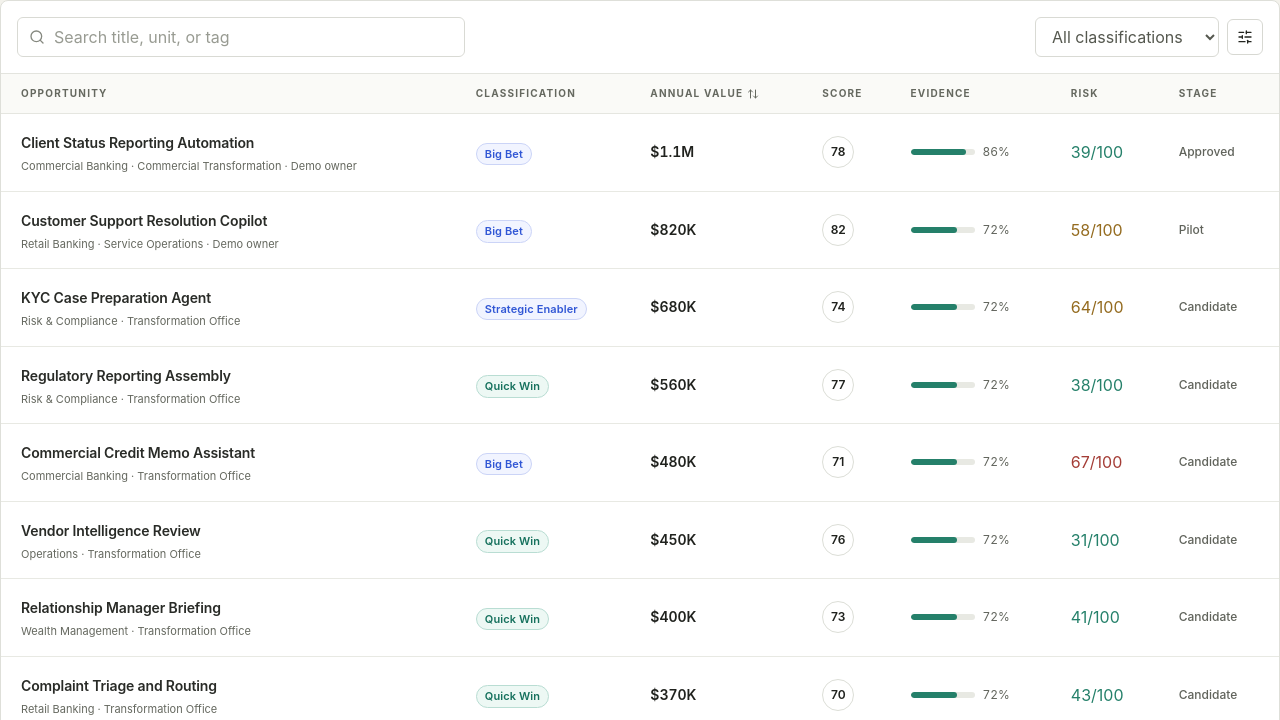
it: OpportunityTable › filters the evidence-backed portfolio by user query
In the search field named "Search opportunities": x=241, y=37 [17,17,465,57], type "regulatory"
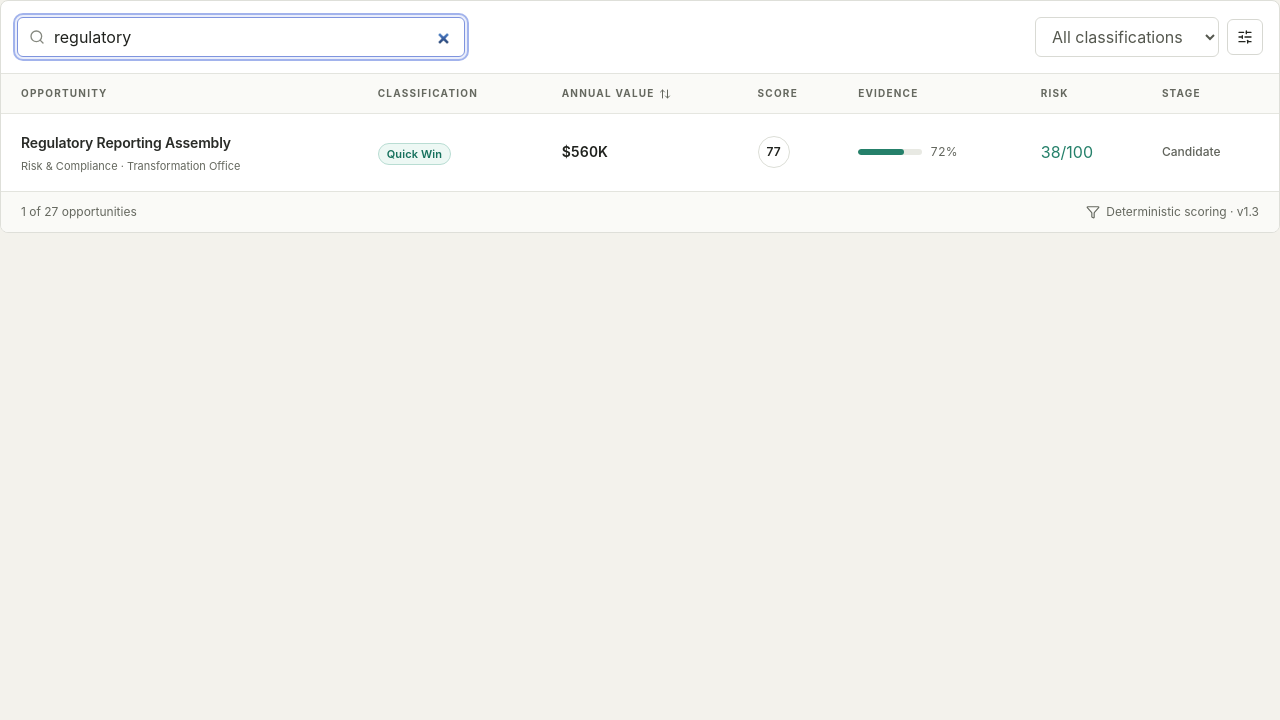
Expected: the link "Regulatory Reporting Assembly" is shown, [21,134,231,151]
Expected: the link "Client Status Reporting Automation" is gone
